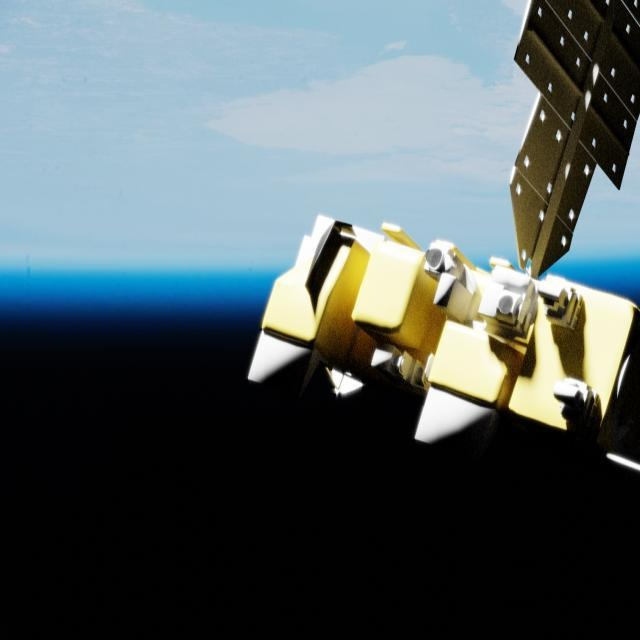satellite: (214, 0, 640, 503)
